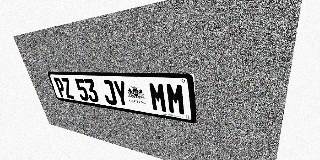3: (83, 79, 99, 103)
5: (74, 78, 90, 101)
J: (100, 80, 118, 105)
M: (165, 83, 186, 116), (148, 82, 168, 113)
P: (53, 77, 67, 98)
Y: (112, 80, 130, 107)
Z: (60, 78, 75, 99)
